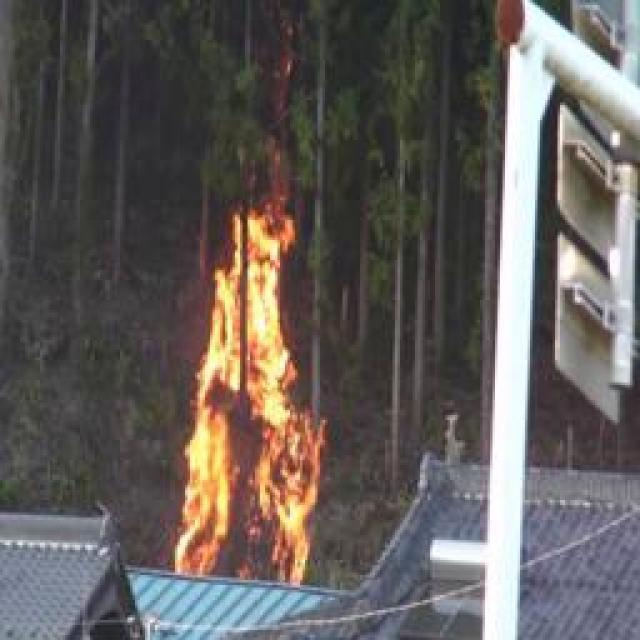Fire: (166, 203, 333, 584)
